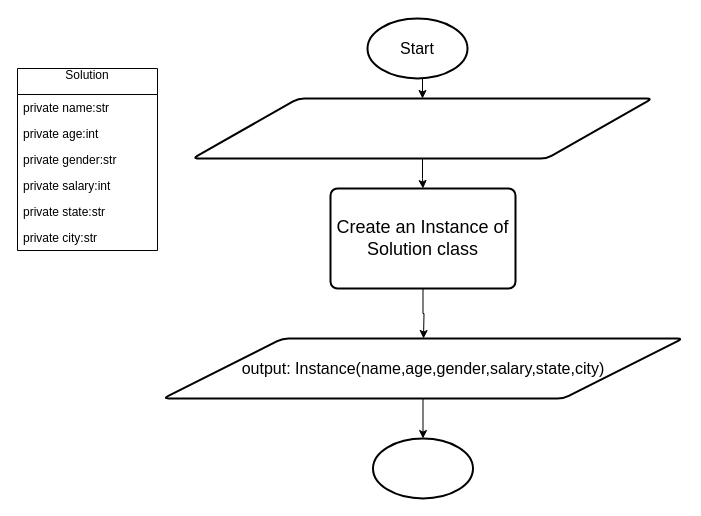
Some shapes in this 701 by 516 pixel diagram are drawn without their labels. The shapes that lost their labels are listed below. From the top down, each one's box as (x1, y1, x2, y2) in pixels, then its label:
(191, 97, 653, 159): input: name,age,gender,salary,state,city
(372, 437, 474, 499): Stop
